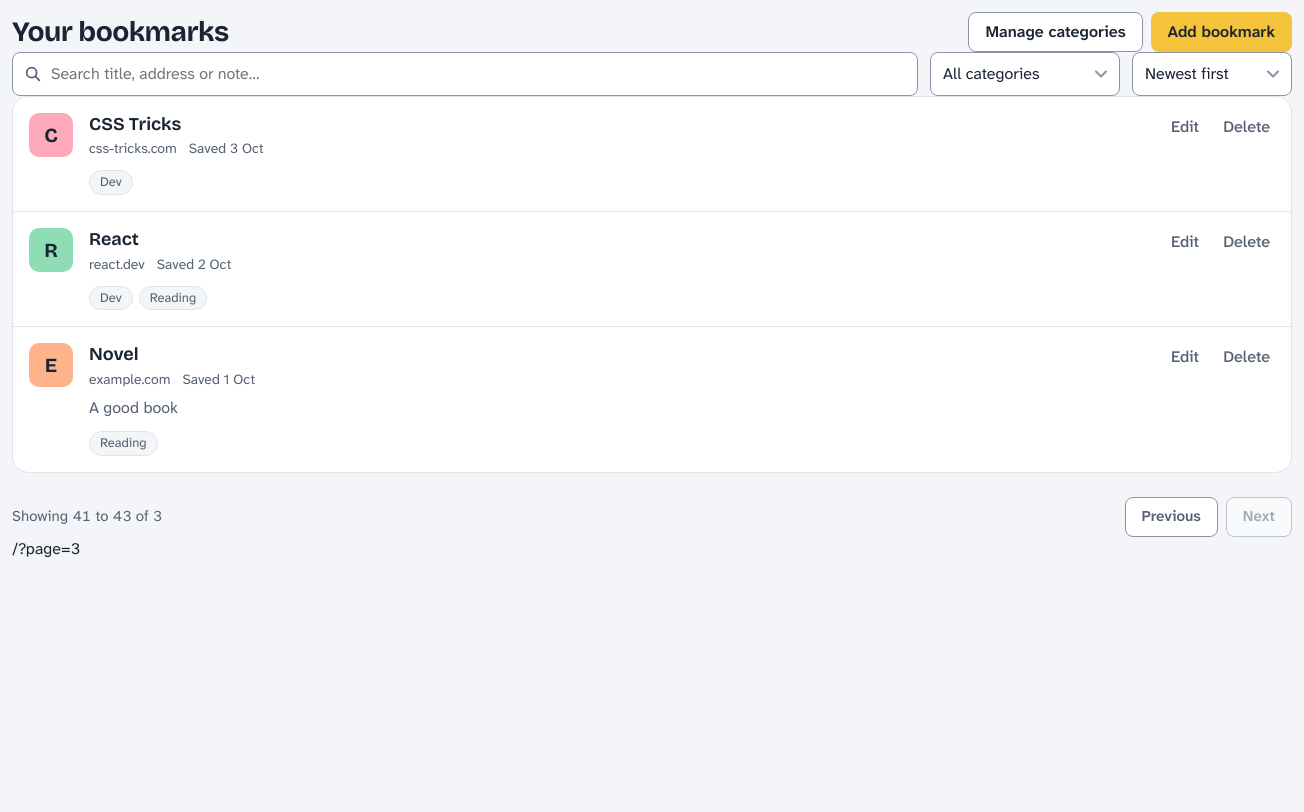
Scenario: category and sort › changes the sort and goes back to page 1
The width and height of the screenshot is (1304, 812).
Step 1. Select "Title A to Z" in the 2nd dropdown named "Sort by" → x=1212, y=74, box [1132, 52, 1292, 96]
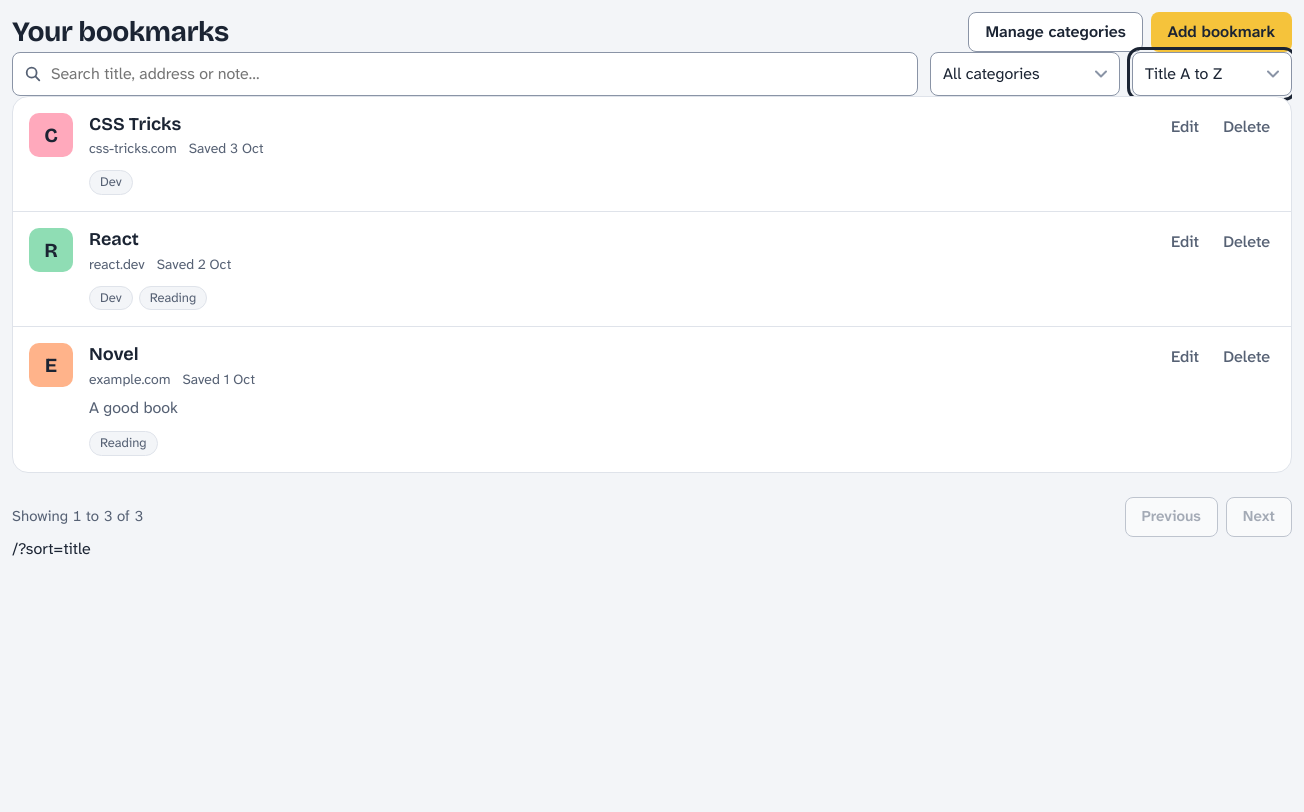
Result: the text with test id "address" reads "/?sort=title" at [12, 538, 91, 559]
